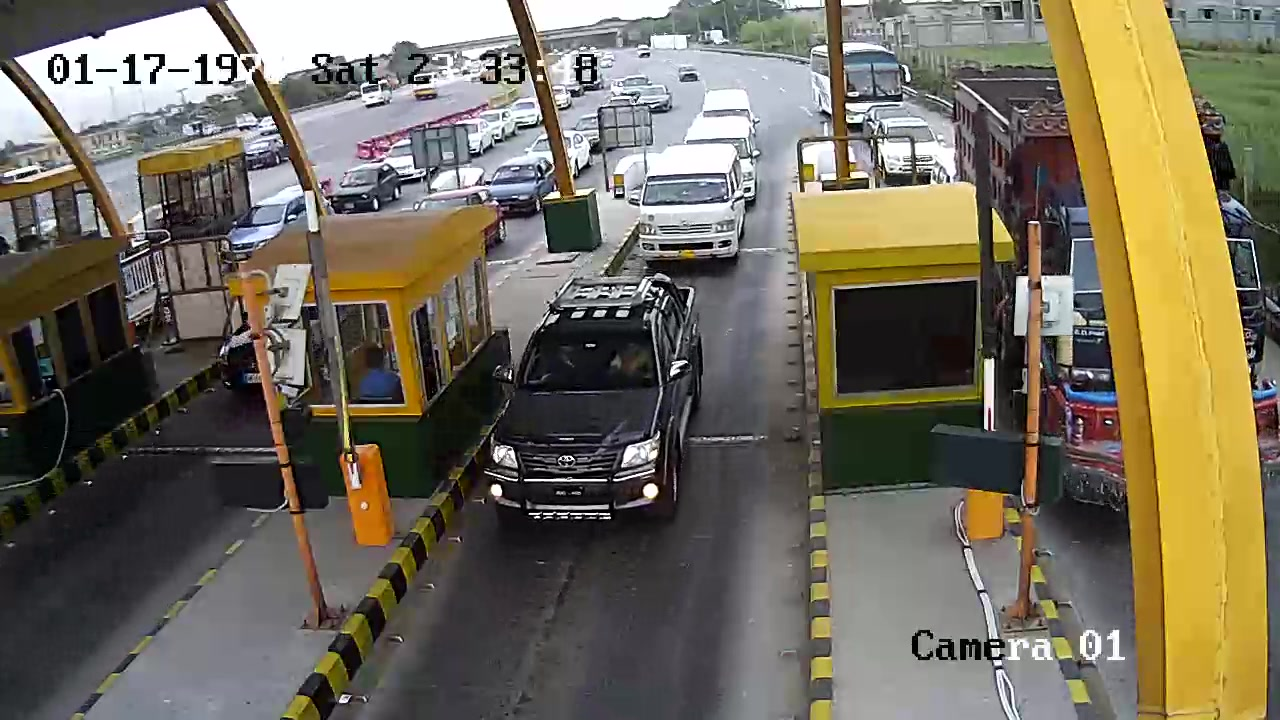F1: (469, 276, 719, 529)
